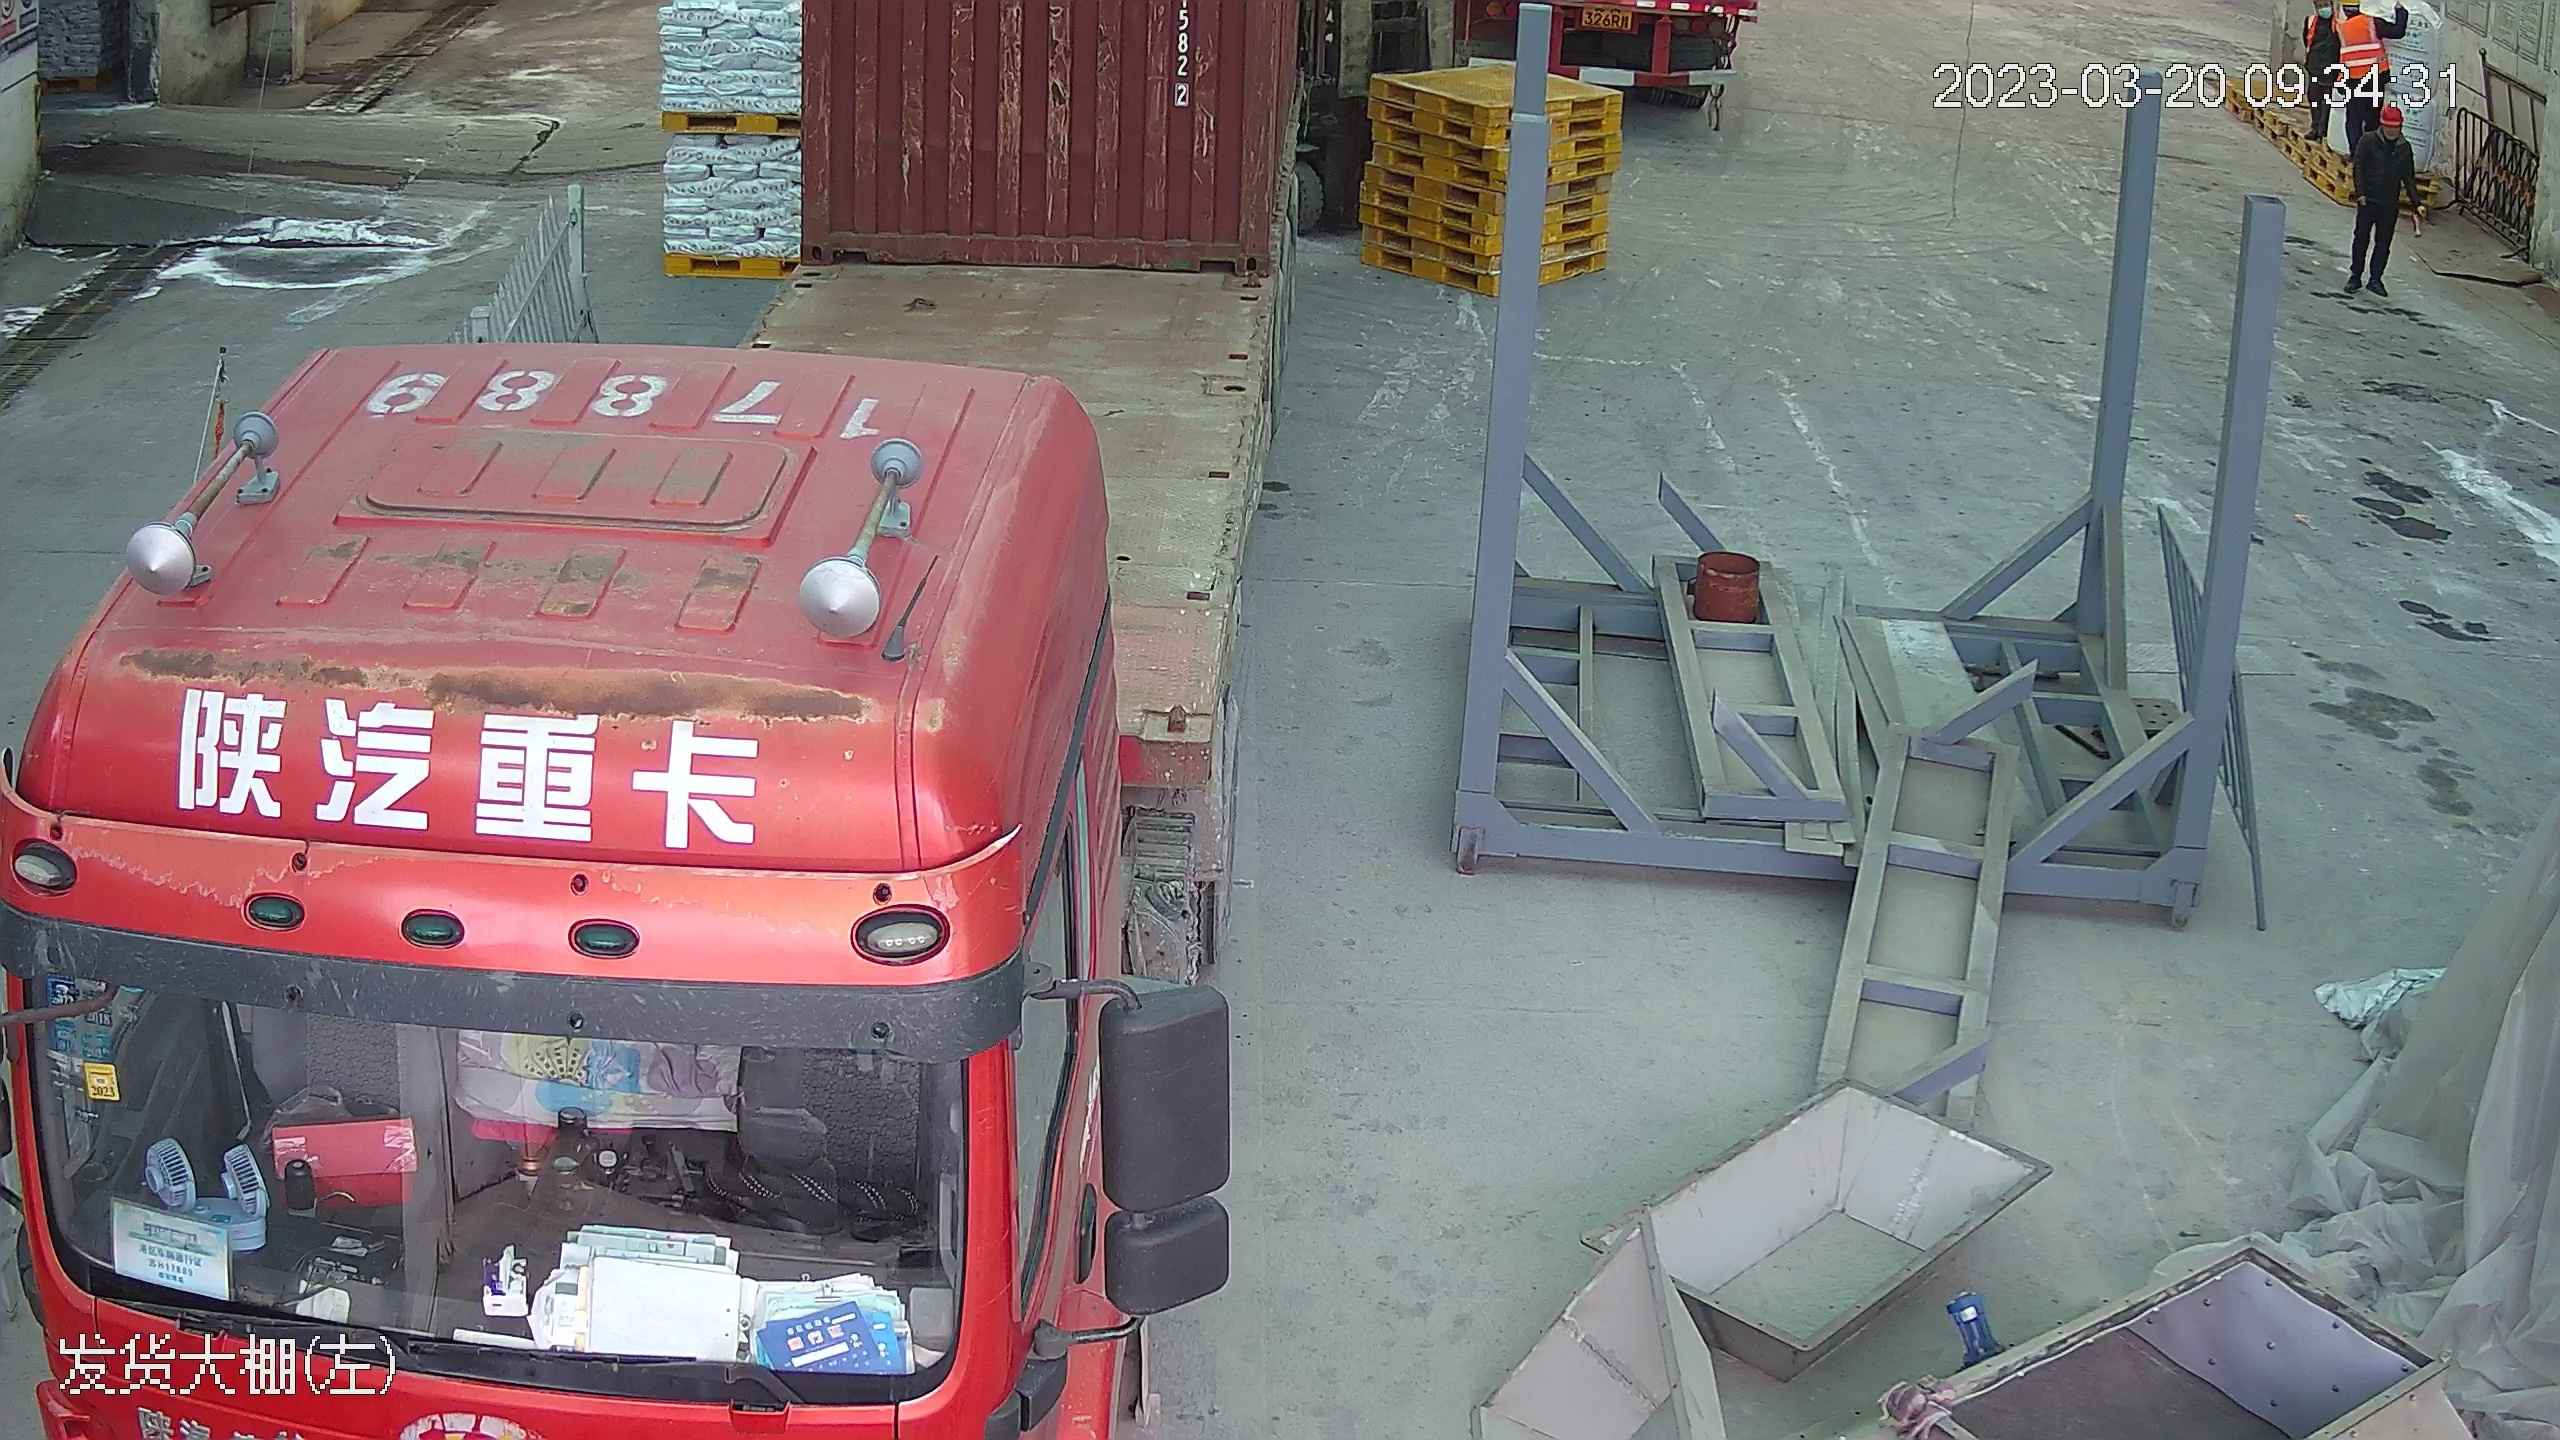head: (2366, 102, 2413, 163), (2322, 1, 2378, 48)
helmet: (2375, 98, 2404, 122)
people: (2345, 98, 2420, 301), (2334, 1, 2403, 151), (2299, 1, 2342, 142)
truck: (7, 1, 1288, 1440)
